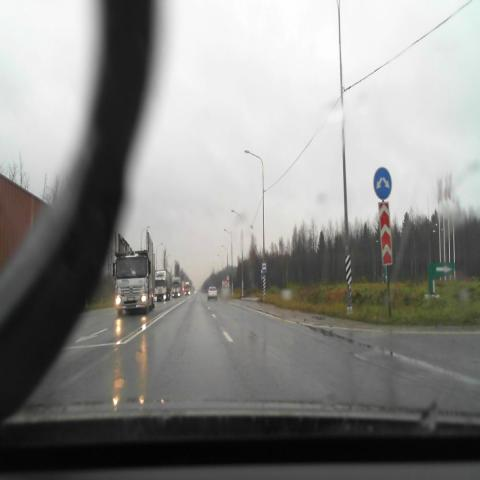4_2_3: (373, 167, 392, 199)
